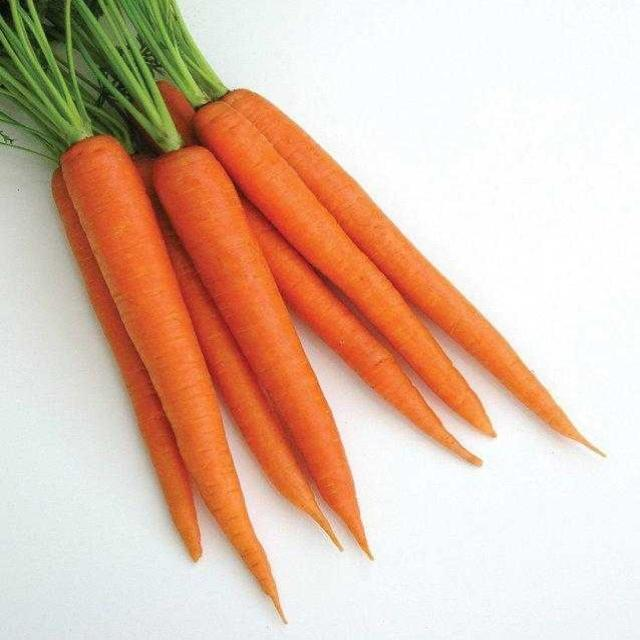carrots: (57, 89, 613, 604)
